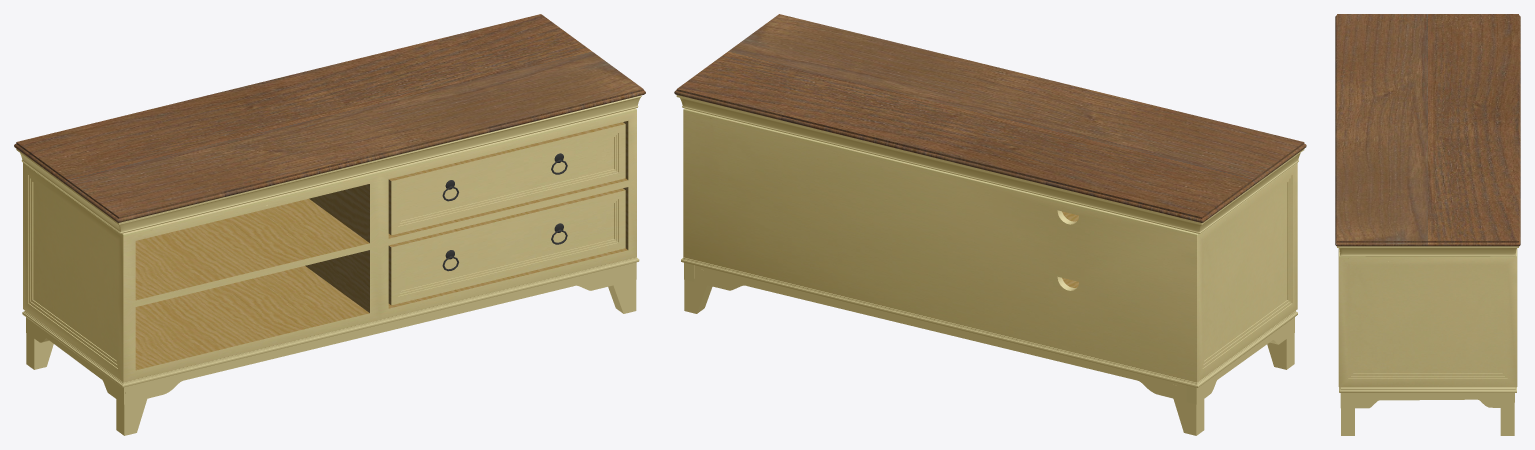
Rendered from example30.glb.
3 views of the same model, side by side, from view 1: azimuth 30°, elevation 25°; view 2: azimuth 150°, elevation 25°; view 3: azimuth 270°, elevation 25° (orthographic). The views are drawn at different scales.
Parts seen in each view (by area): view 1: Merged Objects, ID16, ID36, ручки; view 2: Merged Objects, ID16; view 3: ID16, Merged Objects.
Part boxes in pixels (x1,y1,x2,y2): Merged Objects: (16,95,641,435); ID16: (14,14,645,222); ID36: (135,121,628,370); ручки: (442,153,567,271); Merged Objects: (676,95,1304,435); ID16: (674,14,1306,222); ID16: (1335,14,1520,246); Merged Objects: (1337,246,1518,435).
Size of the model in its own units: 1.12 by 0.4482 by 0.3816.
4 materials, 3 textured.
